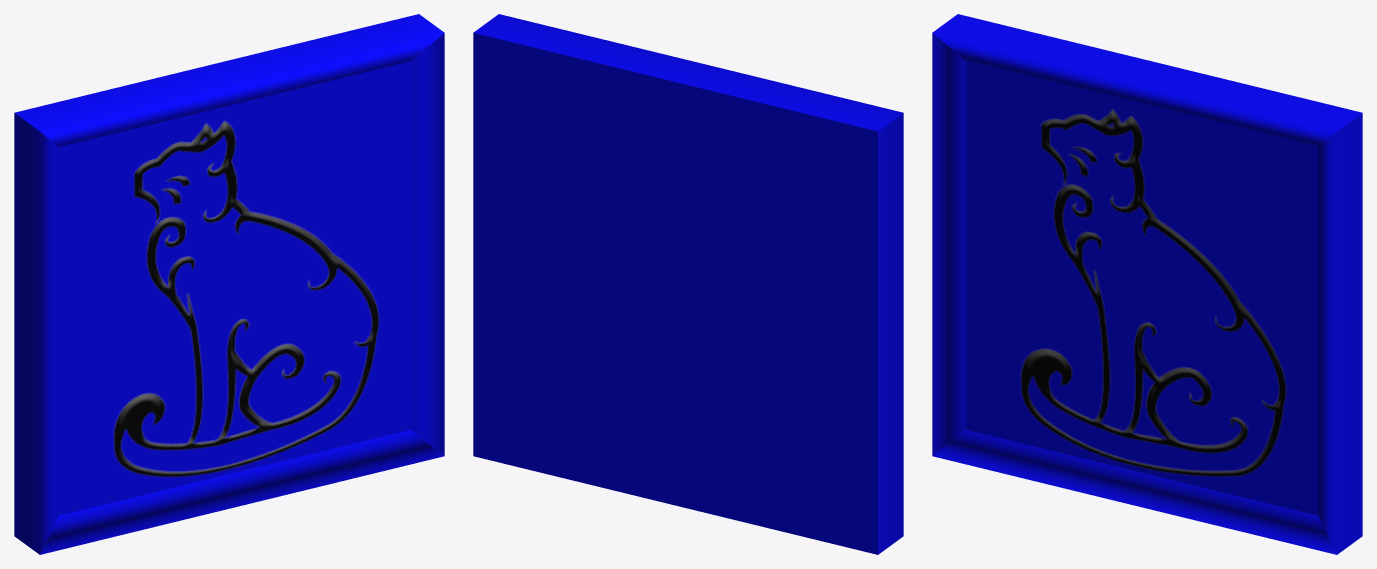
The model's file is Blue Cat.fbx.
The picture shows the model from 3 angles, left to right: view 1: azimuth 30°, elevation 25°; view 2: azimuth 150°, elevation 25°; view 3: azimuth 330°, elevation 25°; orthographic projection.
Parts seen in each view (by area): view 1: pCube1; view 2: pCube1; view 3: pCube1.
Boxes of the visible parts, x1,y1,x2,y2 form: pCube1: (14, 14, 444, 554); pCube1: (473, 14, 903, 554); pCube1: (932, 14, 1362, 554).
Bounding box in the file's own units: 3 × 3 × 0.3283.
Materials: 1 (1 with a texture image).
